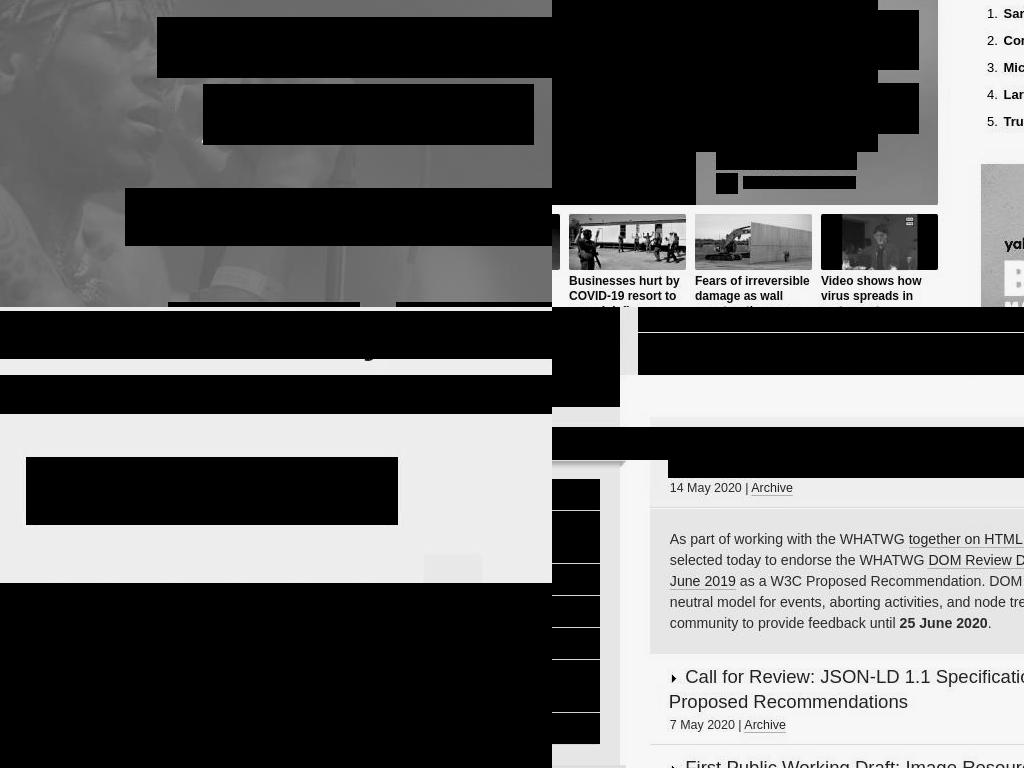button: (552, 0, 696, 205), (26, 457, 398, 525), (668, 429, 1024, 478), (668, 666, 1024, 715), (669, 552, 1024, 591), (569, 214, 686, 307), (695, 214, 812, 307), (821, 214, 938, 307), (857, 333, 975, 375), (746, 333, 858, 375), (638, 333, 747, 375), (668, 757, 1024, 768), (552, 511, 600, 563), (552, 660, 600, 712), (974, 333, 1024, 375), (908, 531, 1024, 549), (552, 479, 600, 510), (552, 564, 600, 595), (552, 596, 600, 627), (552, 628, 600, 659), (552, 713, 600, 744), (981, 6, 1024, 22), (981, 33, 1024, 49), (981, 60, 1024, 76), (981, 87, 1024, 103), (981, 114, 1024, 130), (751, 481, 794, 497), (744, 718, 786, 734)
heading: (0, 311, 552, 359), (125, 188, 552, 246), (203, 84, 534, 145), (230, 17, 552, 78), (668, 429, 1024, 476), (668, 666, 1024, 713), (552, 427, 1024, 460), (716, 10, 919, 70), (669, 437, 1024, 471), (552, 307, 620, 377), (157, 17, 231, 78), (569, 274, 686, 307), (695, 274, 812, 307), (821, 274, 938, 307), (685, 757, 1024, 768), (552, 437, 597, 454), (597, 438, 611, 451), (668, 436, 678, 446), (668, 673, 678, 683), (668, 764, 678, 768)
image: (0, 583, 552, 768), (633, 0, 878, 152), (552, 0, 696, 205), (569, 214, 686, 270), (695, 214, 812, 270), (821, 214, 938, 270), (552, 375, 620, 407), (716, 173, 738, 194)
link: (716, 83, 919, 134)
text: (0, 375, 552, 414), (669, 573, 1024, 632), (669, 531, 1024, 569), (74, 478, 327, 503), (716, 139, 857, 170), (669, 531, 909, 548), (899, 615, 988, 632), (743, 176, 856, 189), (669, 481, 745, 496), (669, 718, 739, 733), (999, 6, 1024, 21), (999, 33, 1024, 48), (999, 60, 1024, 75), (999, 87, 1024, 102), (981, 6, 998, 22), (981, 33, 998, 49), (981, 60, 998, 76), (981, 87, 998, 103), (981, 114, 998, 130), (745, 481, 752, 496), (738, 718, 745, 733), (987, 615, 992, 632)
